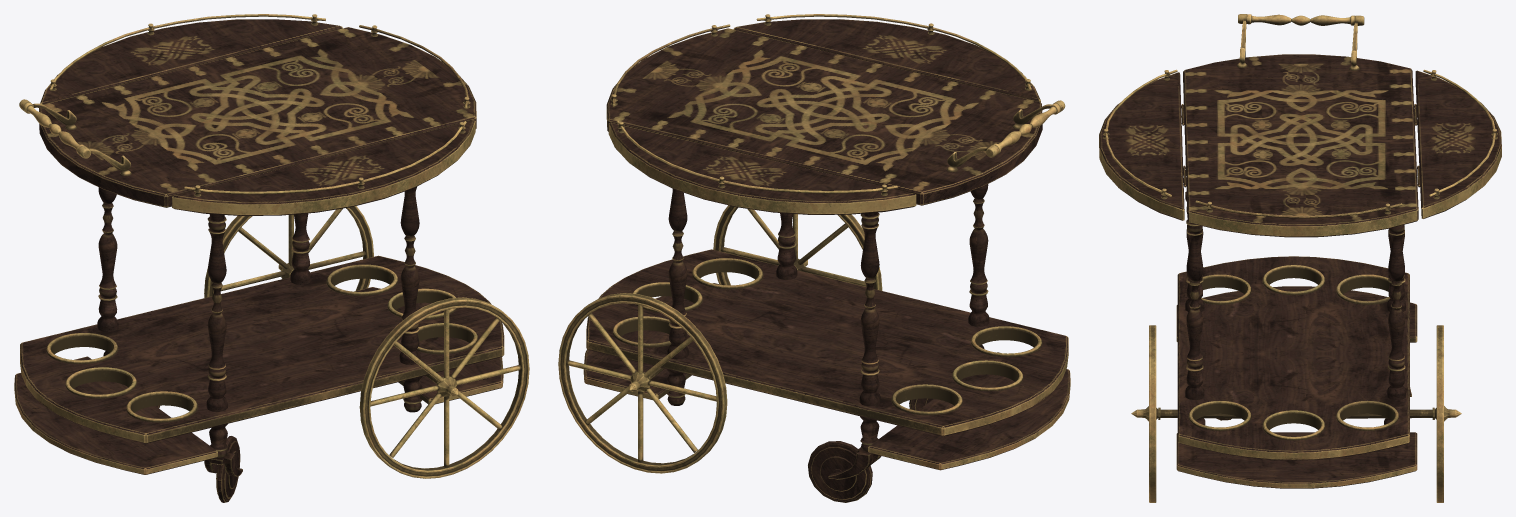
The model's file is SM_WaiterStand.fbx.
3 views of the same model, side by side, from view 1: azimuth 30°, elevation 25°; view 2: azimuth 150°, elevation 25°; view 3: azimuth 270°, elevation 25° (orthographic). The views are drawn at different scales.
Visible parts, largest first — view 1: SM_WaiterStand_LOD0; view 2: SM_WaiterStand_LOD0; view 3: SM_WaiterStand_LOD0.
Boxes of the visible parts, x1,y1,x2,y2 form: SM_WaiterStand_LOD0: [14, 14, 529, 502]; SM_WaiterStand_LOD0: [558, 14, 1070, 502]; SM_WaiterStand_LOD0: [1099, 14, 1501, 502].
Size of the model in its own units: 157 by 135 by 128.
1 material, 1 textured.
